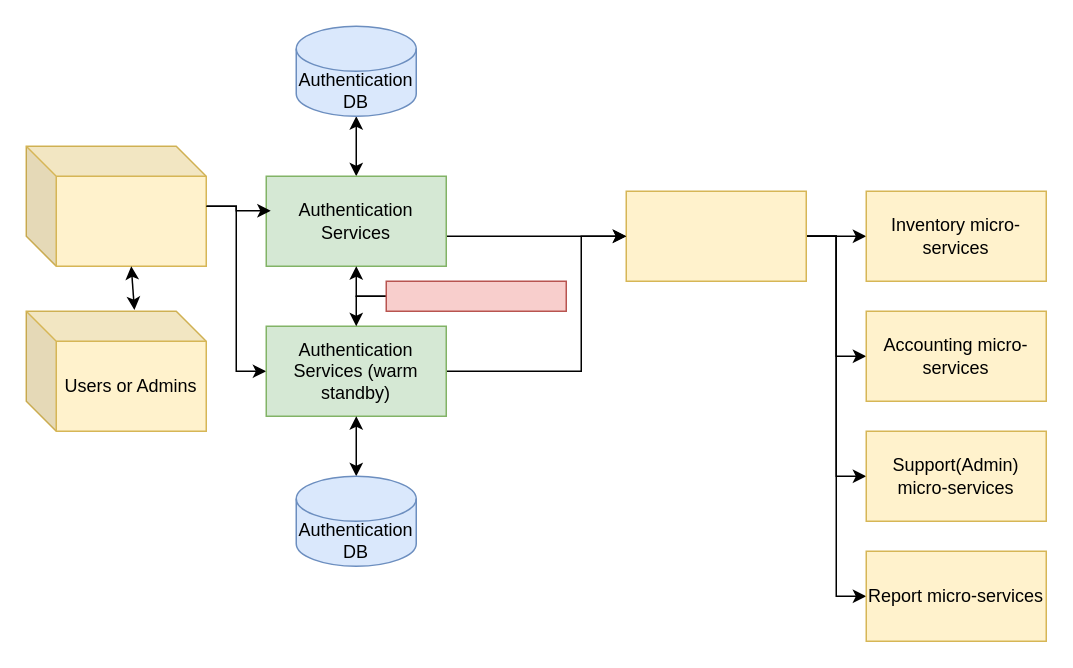
Some shapes in this 1073 by 668 pixel diagram are drawn without their labels. Here are the shapes that lost their labels. From the top down, the box of each, then its label:
(25, 145, 206, 266): BFF's
(625, 190, 806, 281): API Gateway (Authorization)
(385, 280, 566, 311): heartbeat
